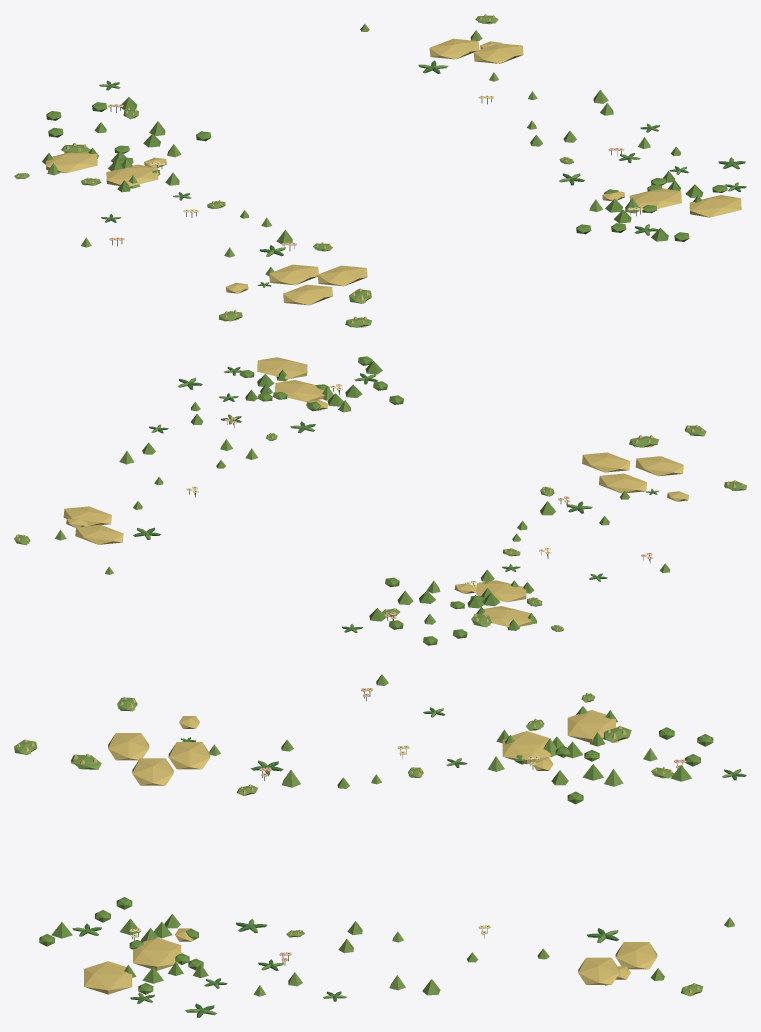
File: longgrass_meadow_nonsolid_props.fbx
3 renders of one model, top to bottom at view 1: azimuth 30°, elevation 25°; view 2: azimuth 150°, elevation 25°; view 3: azimuth 270°, elevation 25°, orthographic. The views are drawn at different scales.
Visible parts, largest first — view 1: chunk_longgrass_meadow__PropsNonSolid; view 2: chunk_longgrass_meadow__PropsNonSolid; view 3: chunk_longgrass_meadow__PropsNonSolid.
Part boxes in pixels (x1=…): chunk_longgrass_meadow__PropsNonSolid: x1=14, y1=14, x2=746, y2=327; chunk_longgrass_meadow__PropsNonSolid: x1=14, y1=356, x2=746, y2=645; chunk_longgrass_meadow__PropsNonSolid: x1=14, y1=674, x2=746, y2=1017.
Bounding box in the file's own units: 196 × 6.84 × 180.
